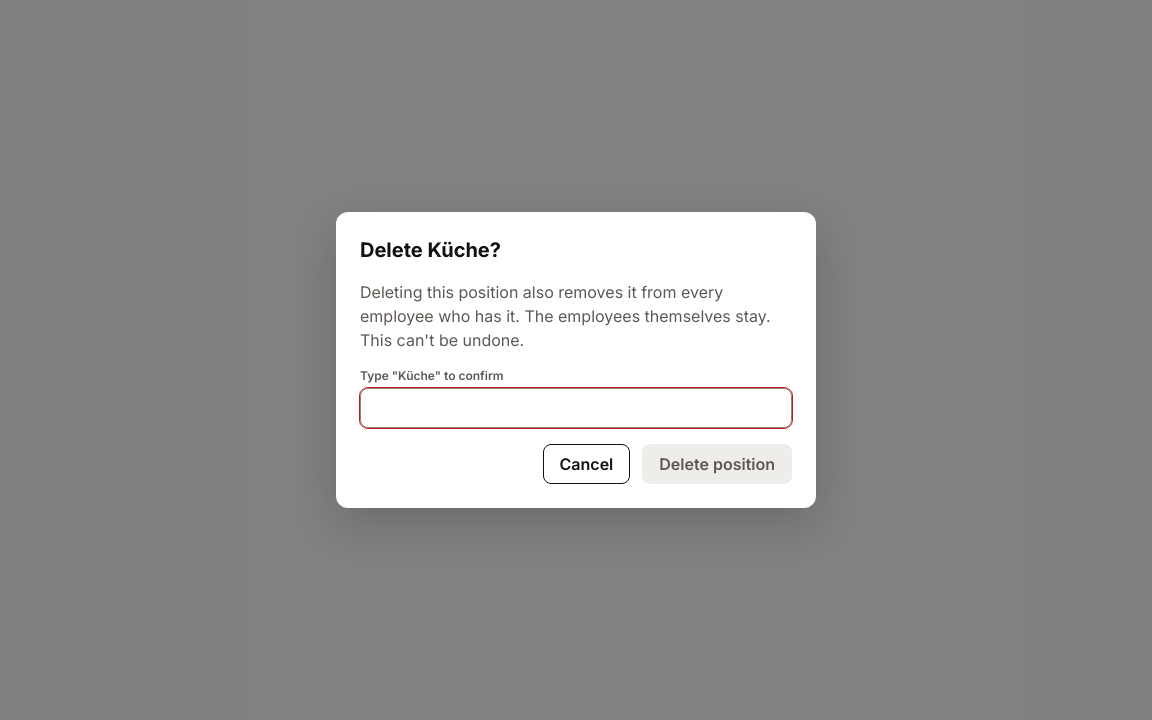
DeletePosition › shows the server's message when deleting fails and stays open
Type "Küche" into the field labelled "Type \"Küche\" to confirm" at (576, 408), box [360,388,792,428]
Then press Enter
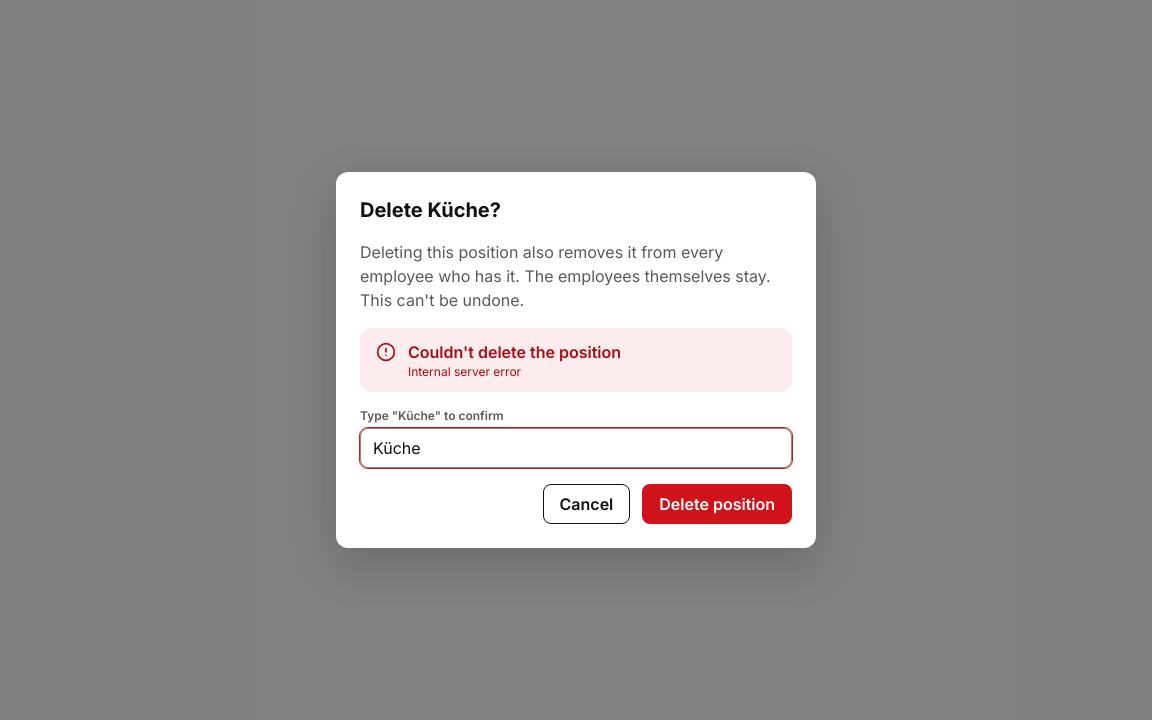
expect the message shows "Couldn't delete the position": met, box [408,342,621,362]
expect the message shows "Internal server error": met, box [408,364,521,379]
